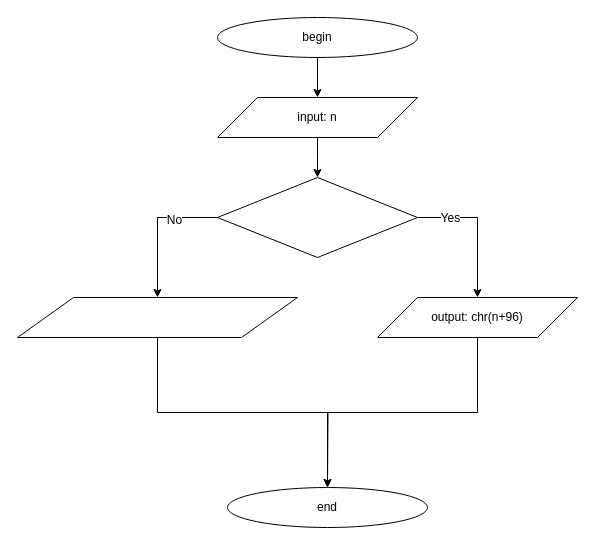
Image size: 595x545. Some labels were removed from this diagram. The shapes that lost their labels are listed below. From the top down, each one's box as (x1, y1, x2, y2) in pixels, then its label:
(216, 176, 418, 258): n > 0 and n < 27
(16, 296, 298, 338): Output: Your char number is invalid
